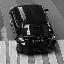mobil: (9, 3, 57, 55)
